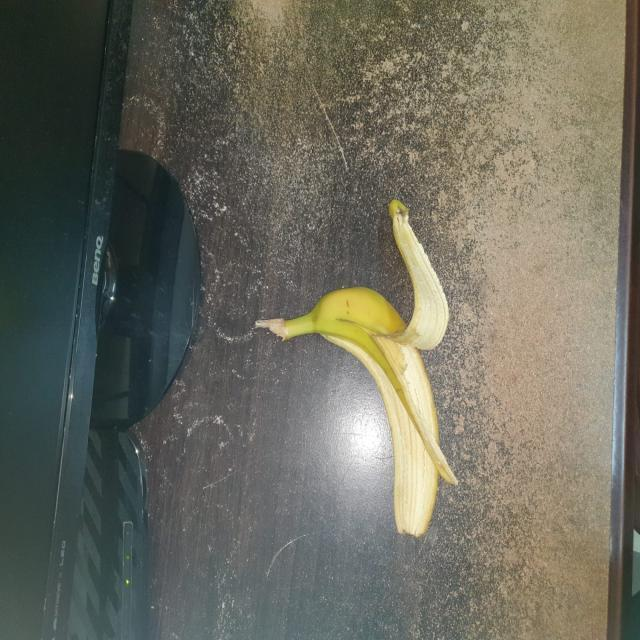banana-peel: (253, 198, 459, 538)
